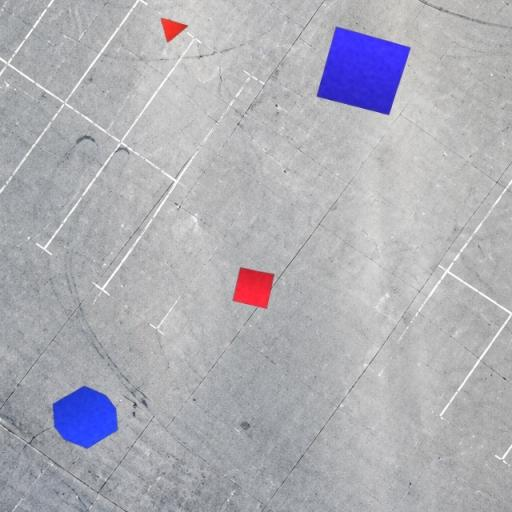BLUE_SQUARE: (316, 26, 412, 116)
RED_SQUARE: (232, 266, 275, 309)
